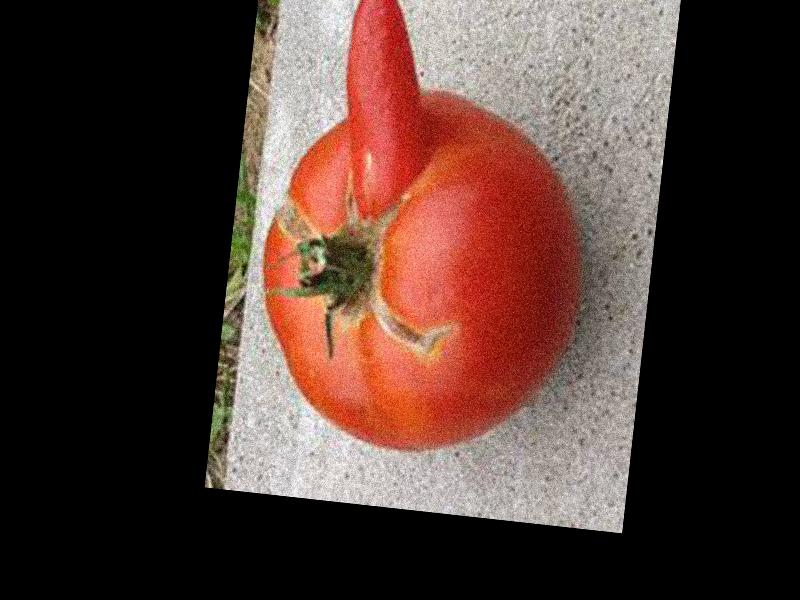Tomato: (243, 73, 589, 470)
